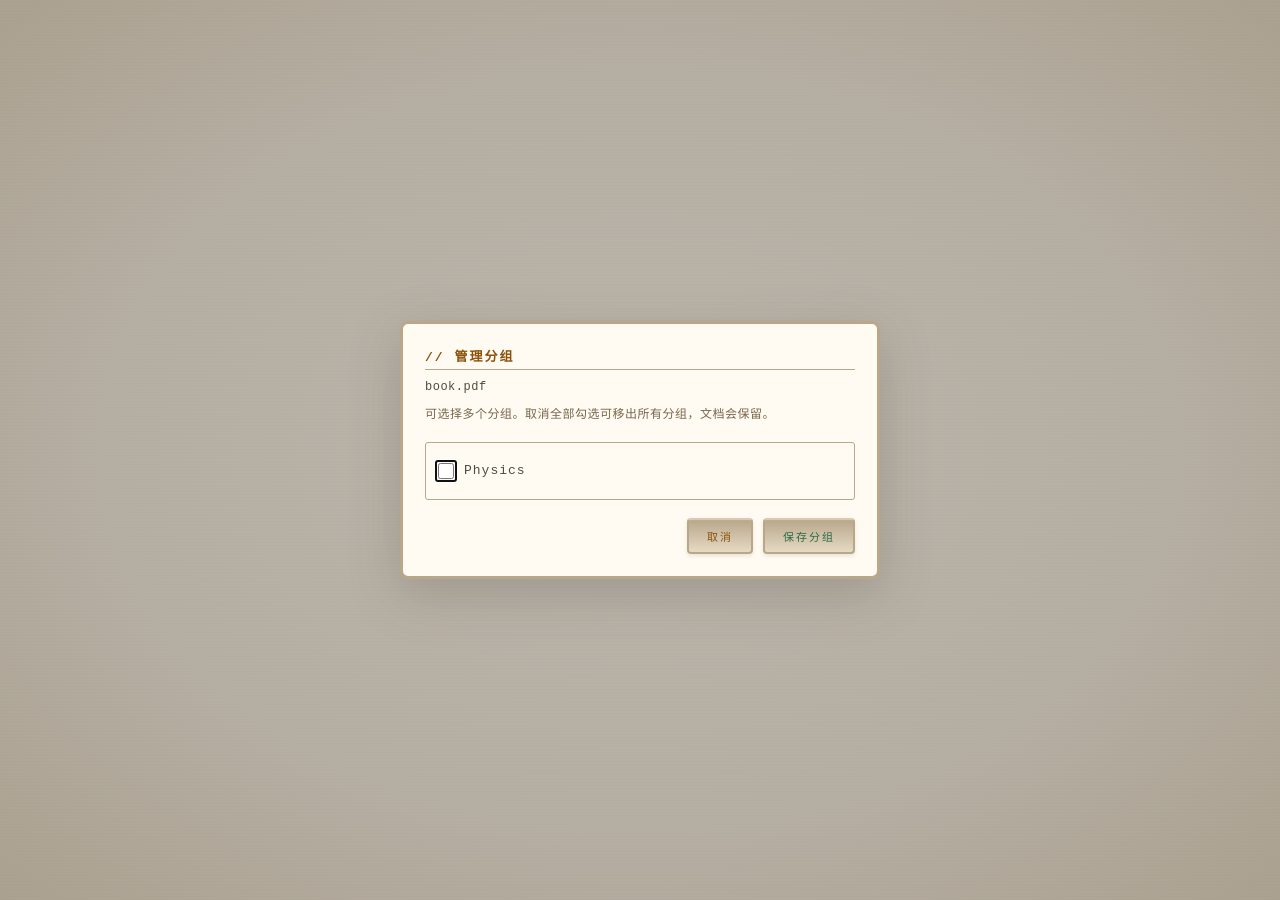
failed membership saves preserve the selection and keep the dialog open
Click the checkbox labelled "Physics": (446, 471) [438,463,454,479]
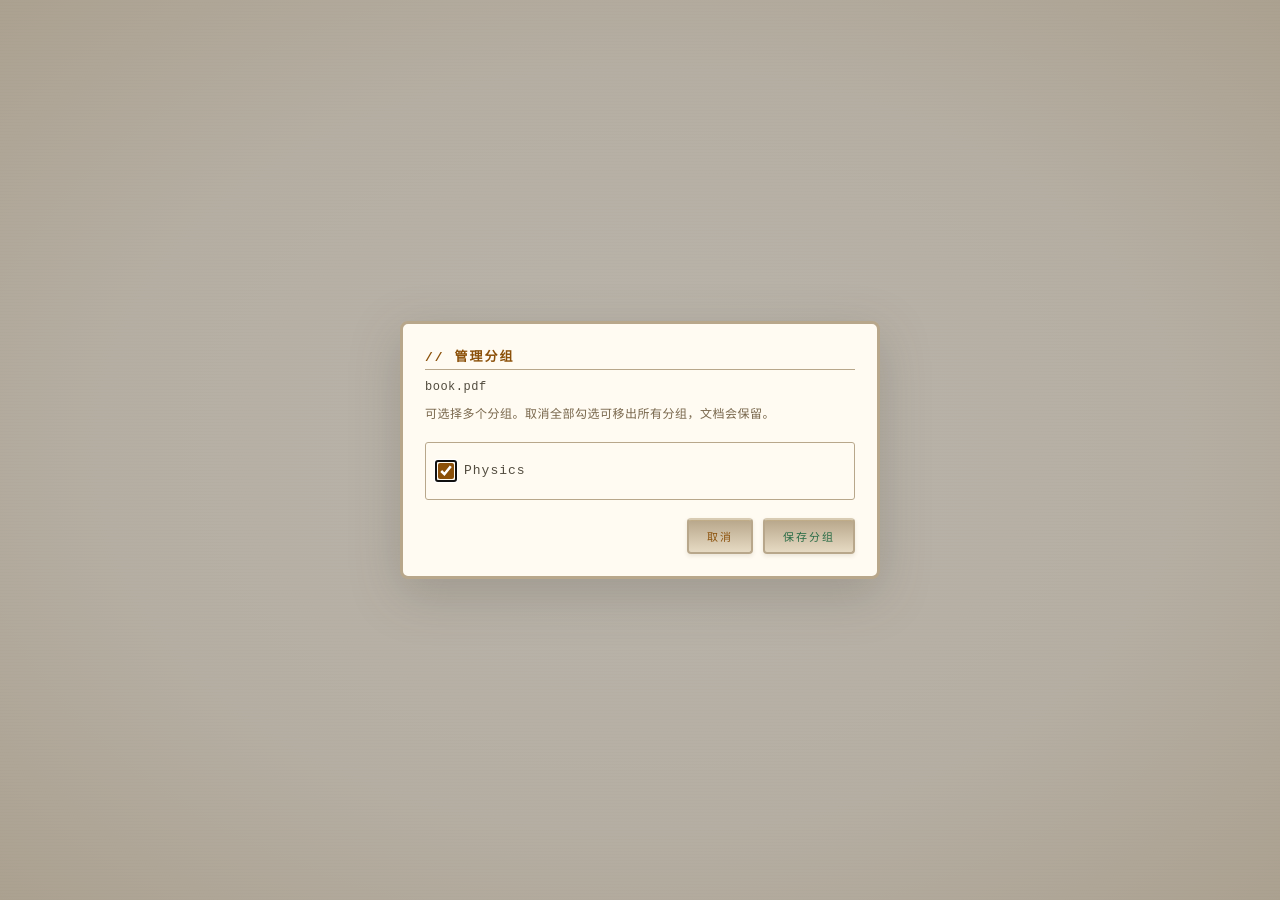
Click the button "保存分组": (809, 536) [763,518,855,554]
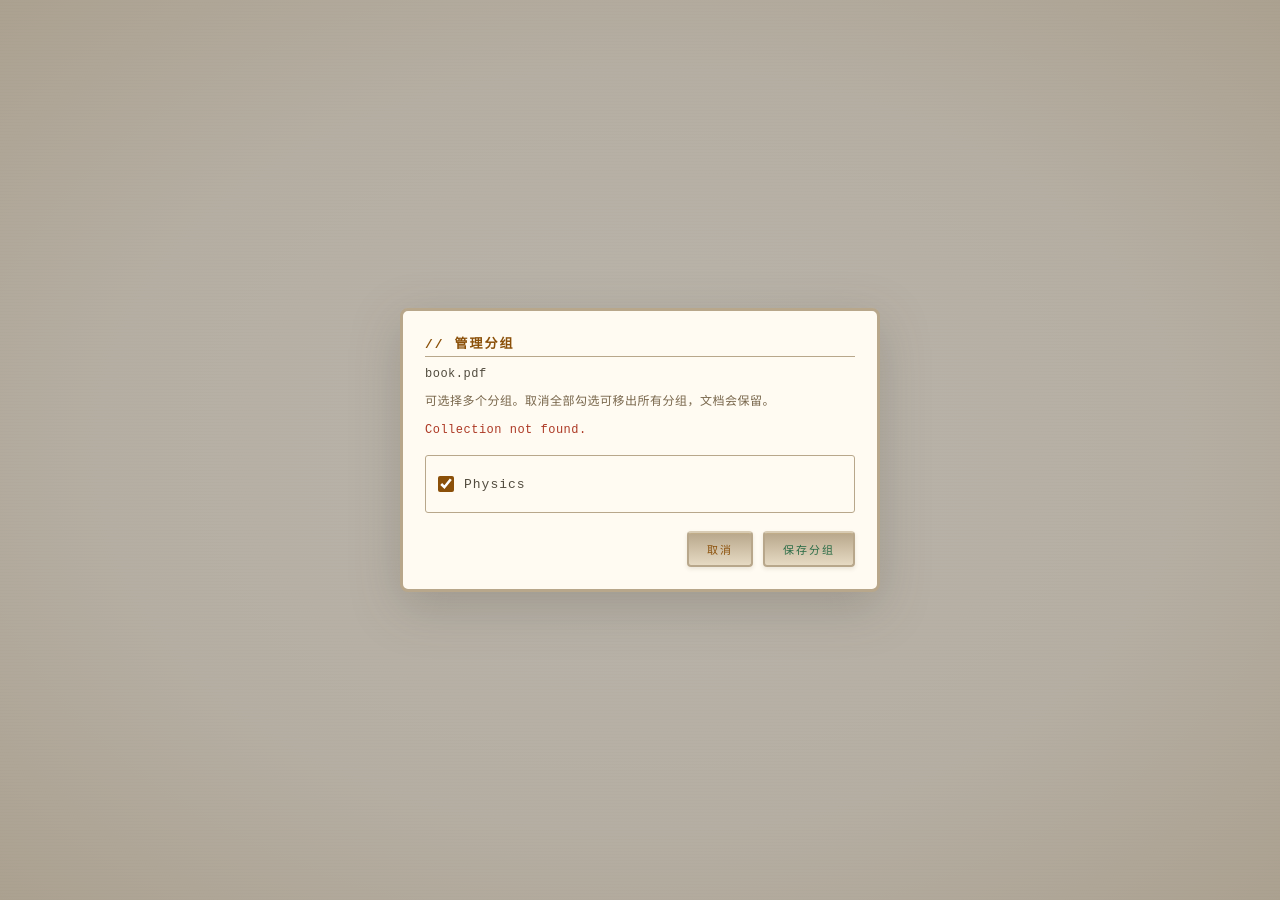
Check: the checkbox is checked, box [438,476,454,492]
Check: the message reads "Collection not found.", box [425,423,587,437]
